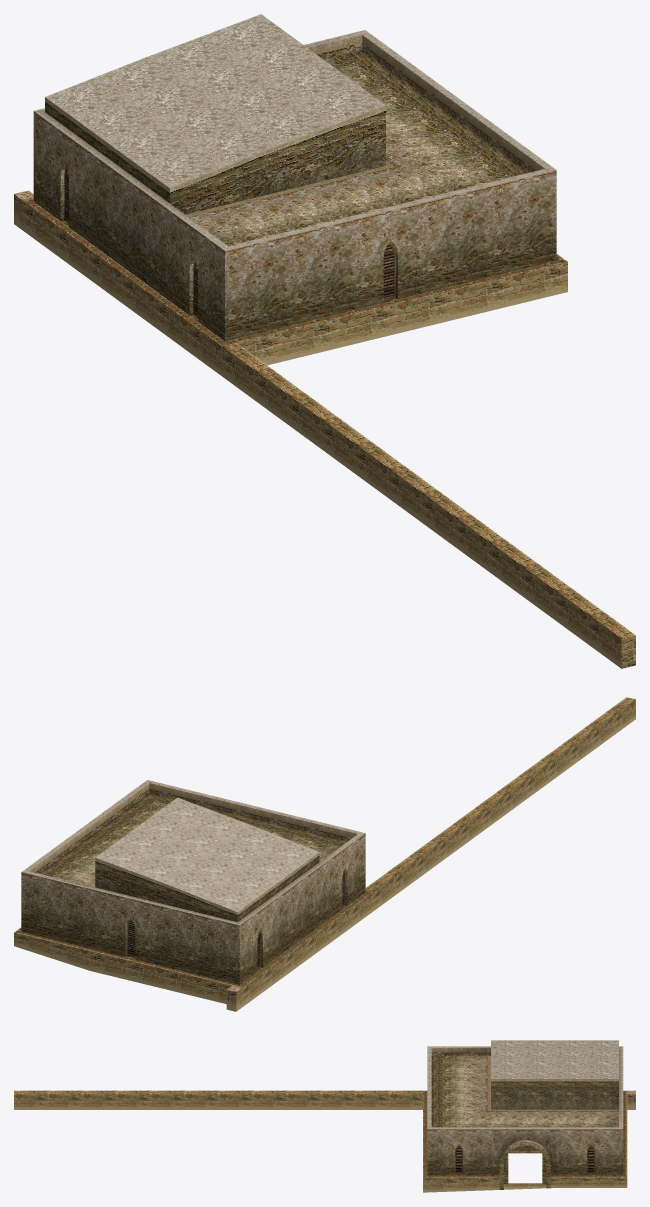
Rendered from Mission8_VillageBuilding03Ext.glb.
The picture shows the model from 3 angles, top to bottom: view 1: azimuth 30°, elevation 25°; view 2: azimuth 150°, elevation 25°; view 3: azimuth 270°, elevation 25°; orthographic projection. The views are drawn at different scales.
Parts seen in each view (by area): view 1: MISSION8_VILLAGEBUILDING03EXT; view 2: MISSION8_VILLAGEBUILDING03EXT; view 3: MISSION8_VILLAGEBUILDING03EXT.
Boxes of the visible parts, box(x1,y1,x2,y2) form: MISSION8_VILLAGEBUILDING03EXT: box(14, 14, 635, 668); MISSION8_VILLAGEBUILDING03EXT: box(14, 697, 635, 1011); MISSION8_VILLAGEBUILDING03EXT: box(14, 1040, 635, 1192).
Bounding box in the file's own units: 12 × 5.5 × 36.5.
7 materials, 7 textured.
